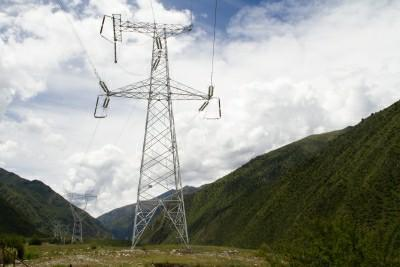power_tower: (84, 8, 228, 248), (65, 180, 97, 244)
